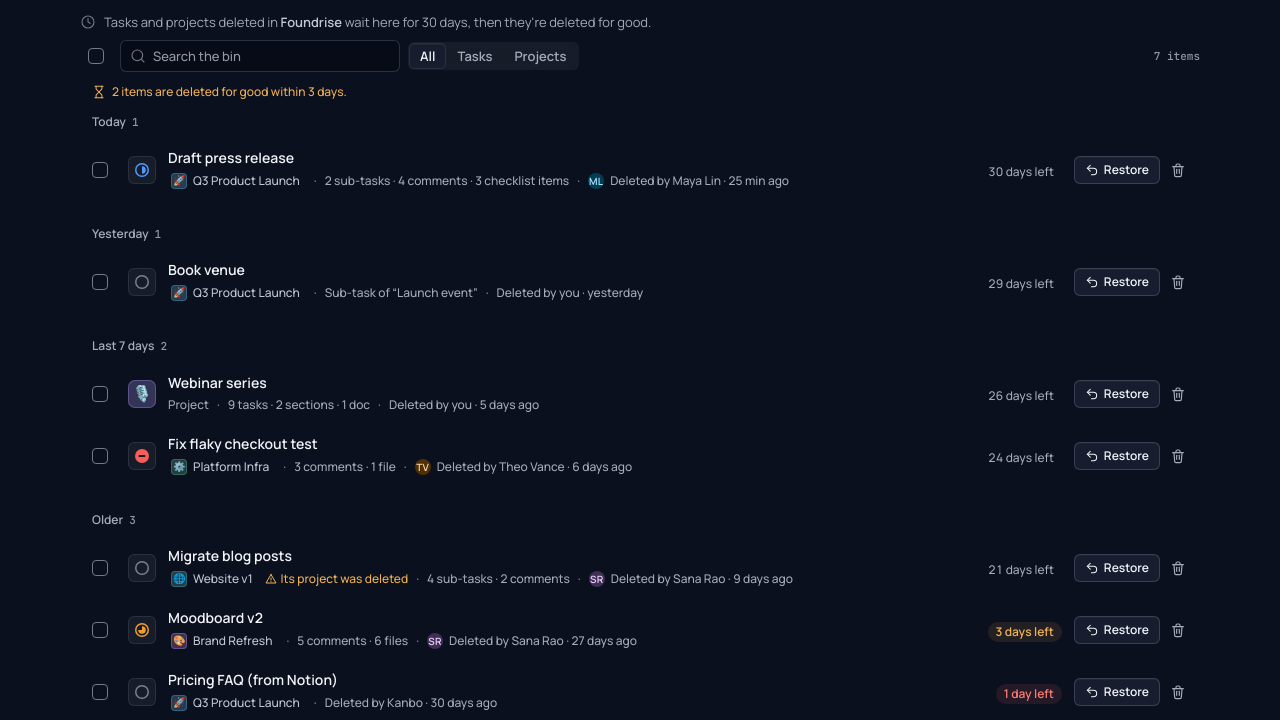
Test: RecycleBin › search and the Tasks / Projects filter
This screenshot has width=1280, height=720.
Expected: the text "Draft press release" is shown, [167,147,294,167]
Type "theo" into the search field named "Search the recycle bin". click: {"x": 260, "y": 56}
box: [120,40,400,72]
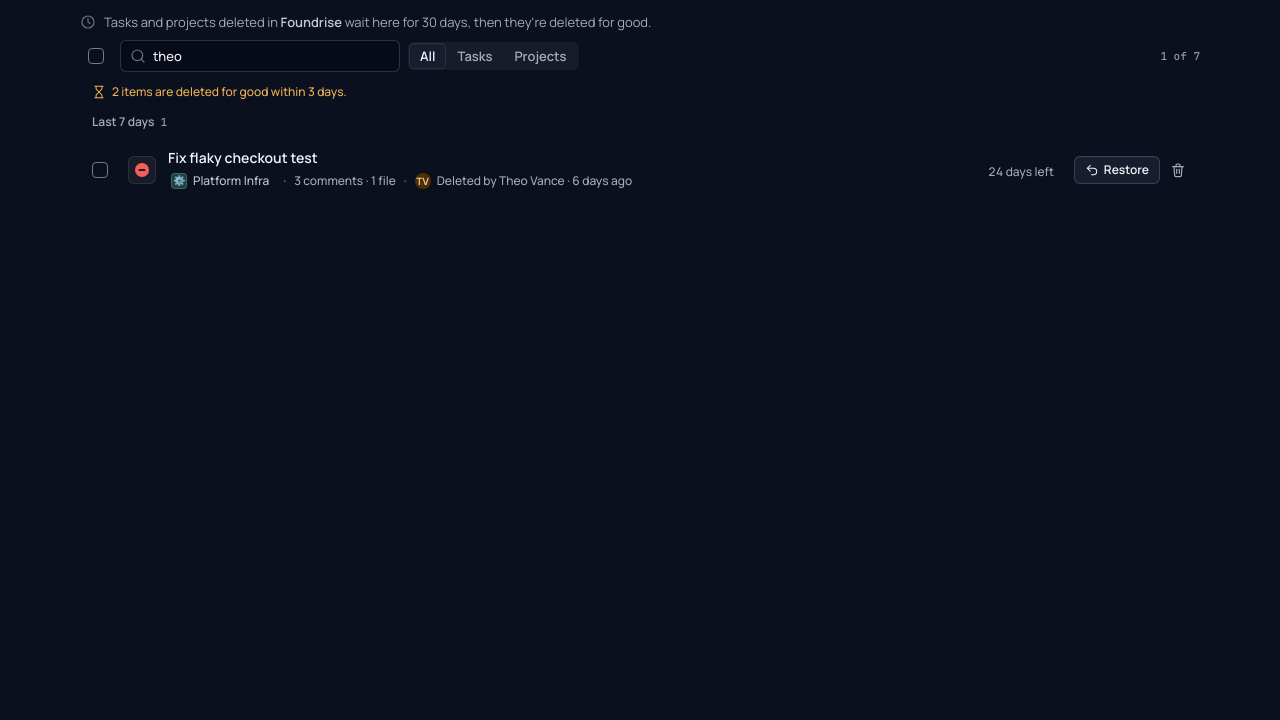
Expected: the text "1 of 7" is shown, [1160,48,1200,64]
Replace the text in the search field with "zzz". click: {"x": 260, "y": 56}
box: [120,40,400,72]
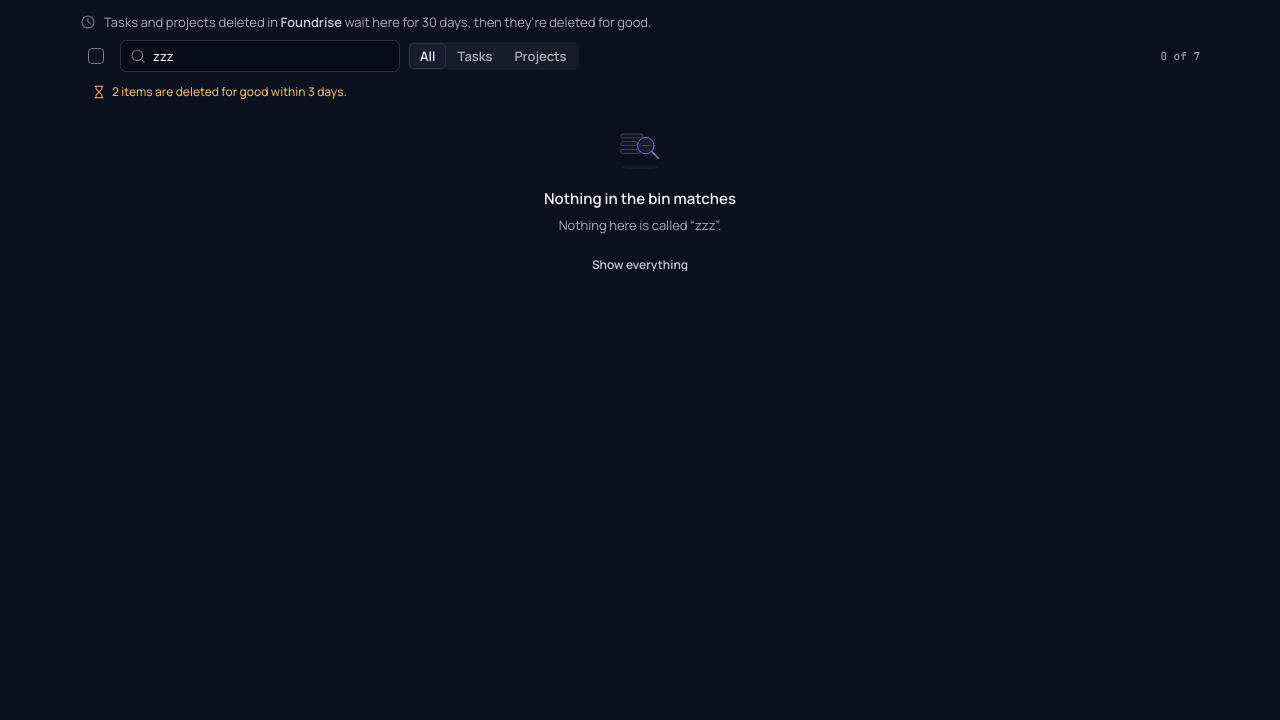
Expected: the text "Nothing in the bin matches" is shown, [544,187,736,211]
Click the button "Show everything". click: {"x": 640, "y": 265}
box: [581,251,699,279]
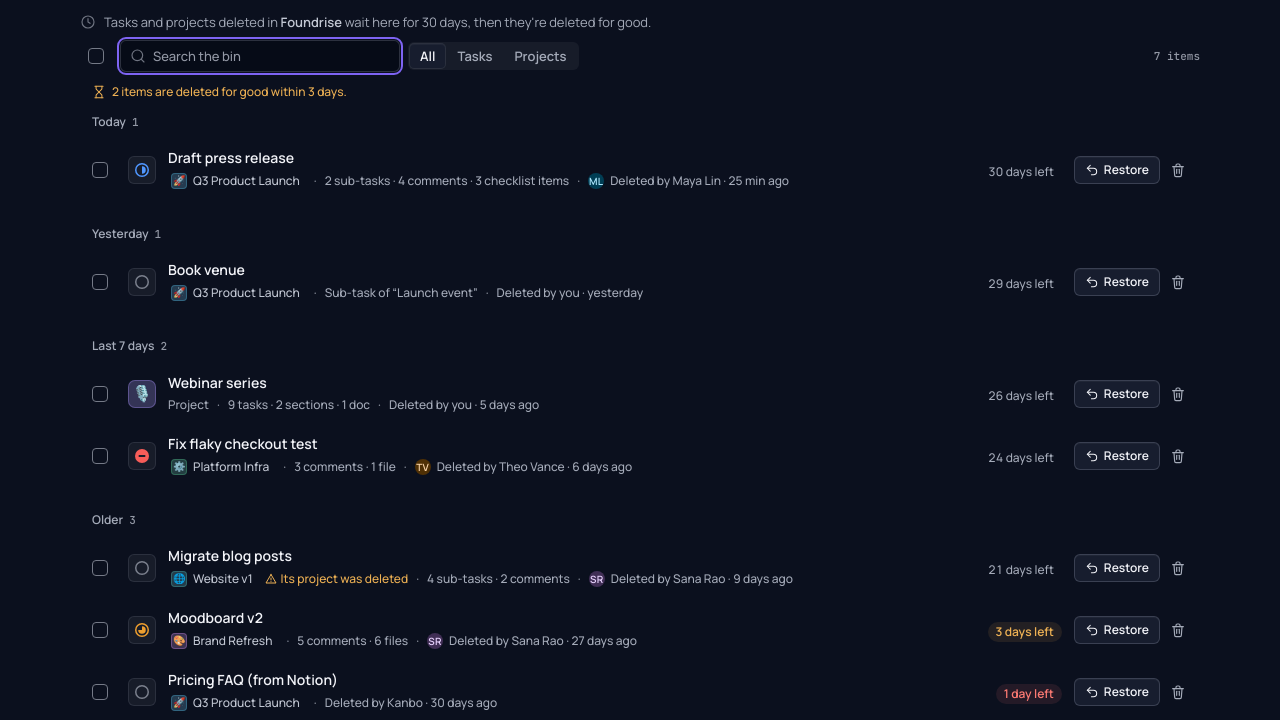
Click the button "Projects". click: {"x": 540, "y": 56}
box: [504,44,577,68]
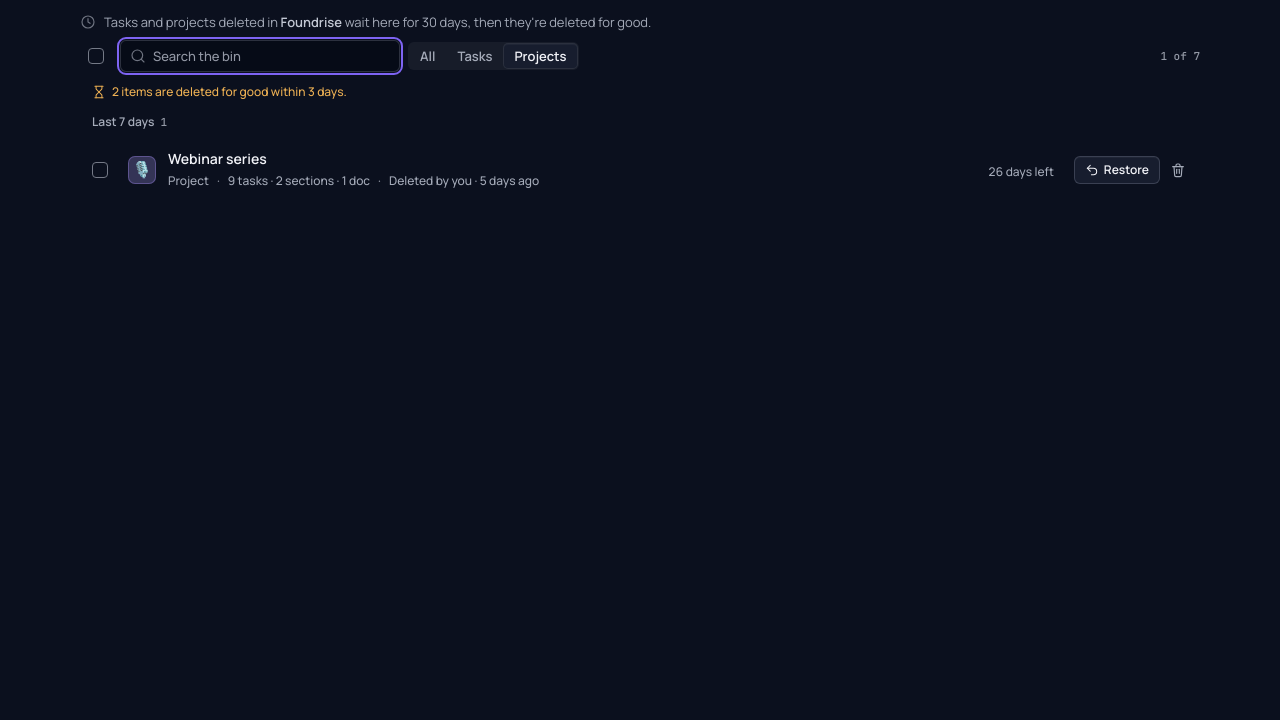
Expected: the text "Webinar series" is shown, [167,148,267,168]
Expected: the number of list items is 1, [80,140,1200,200]
